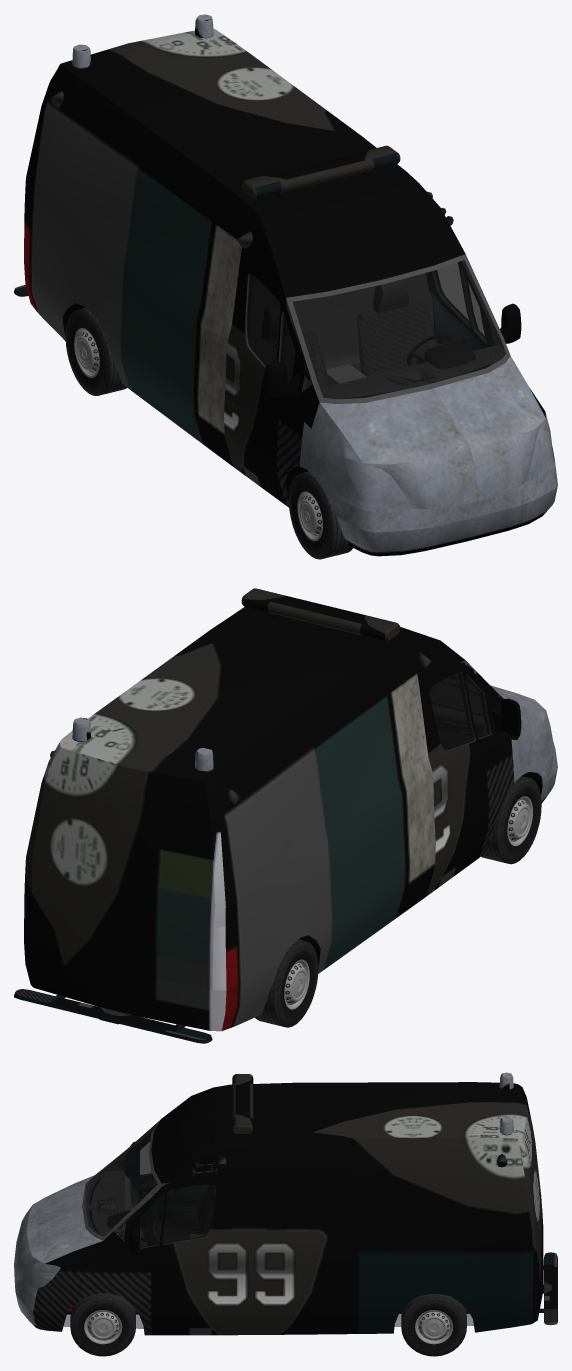
File: Ambulance_2.FBX
3 views of the same model, one above another, from view 1: azimuth 30°, elevation 25°; view 2: azimuth 150°, elevation 25°; view 3: azimuth 270°, elevation 25° (orthographic). The views are drawn at different scales.
Visible parts, largest first — view 1: Body, Door_R, Door_L, Wheel_FR, Wheel_BR; view 2: Body, Door_R, Wheel_BR, Wheel_FR; view 3: Body, Door_L, Wheel_FL, Wheel_BL, Door_R.
Part boxes in pixels (left/top/right/bottom): Body: left=14, top=14, right=557, bottom=556; Door_R: left=231, top=258, right=304, bottom=497; Door_L: left=426, top=260, right=521, bottom=350; Wheel_FR: left=288, top=471, right=352, bottom=559; Wheel_BR: left=65, top=308, right=126, bottom=395; Body: left=14, top=588, right=557, bottom=1043; Door_R: left=423, top=663, right=521, bottom=877; Wheel_BR: left=255, top=939, right=318, bottom=1027; Wheel_FR: left=481, top=776, right=541, bottom=864; Body: left=14, top=1072, right=557, bottom=1335; Door_L: left=124, top=1177, right=224, bottom=1329; Wheel_FL: left=70, top=1293, right=135, bottom=1356; Wheel_BL: left=401, top=1294, right=466, bottom=1356; Door_R: left=124, top=1130, right=208, bottom=1228.
Size of the model in its own units: 59.19 by 66.22 by 147.
